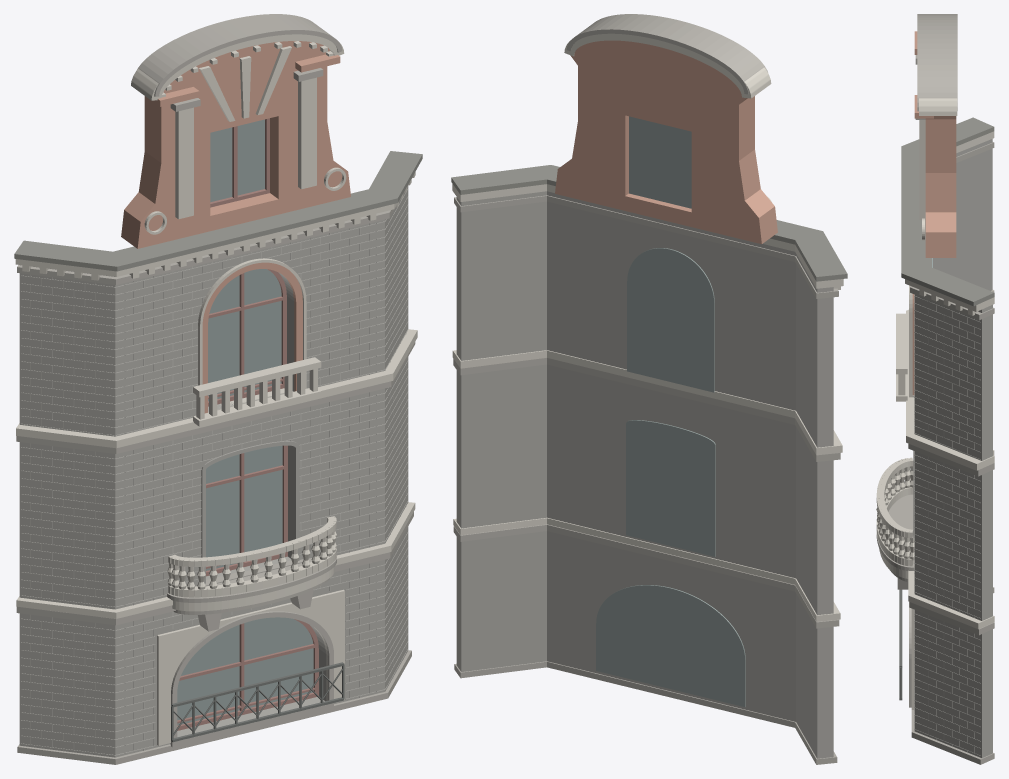
Rendered from huangpu-hardoon-building-chamfer-raw.glb.
The picture shows the model from 3 angles, left to right: view 1: azimuth 30°, elevation 25°; view 2: azimuth 150°, elevation 25°; view 3: azimuth 270°, elevation 25°; orthographic projection. The views are drawn at different scales.
Parts seen in each view (by area): view 1: 哈同大楼（慈安里大楼）东南转角立面; view 2: 哈同大楼（慈安里大楼）东南转角立面; view 3: 哈同大楼（慈安里大楼）东南转角立面.
Boxes of the visible parts, x1,y1,x2,y2 form: 哈同大楼（慈安里大楼）东南转角立面: [14, 14, 422, 764]; 哈同大楼（慈安里大楼）东南转角立面: [451, 14, 847, 764]; 哈同大楼（慈安里大楼）东南转角立面: [876, 14, 994, 764].
Bounding box in the file's own units: 8.11 × 13.15 × 2.2.
